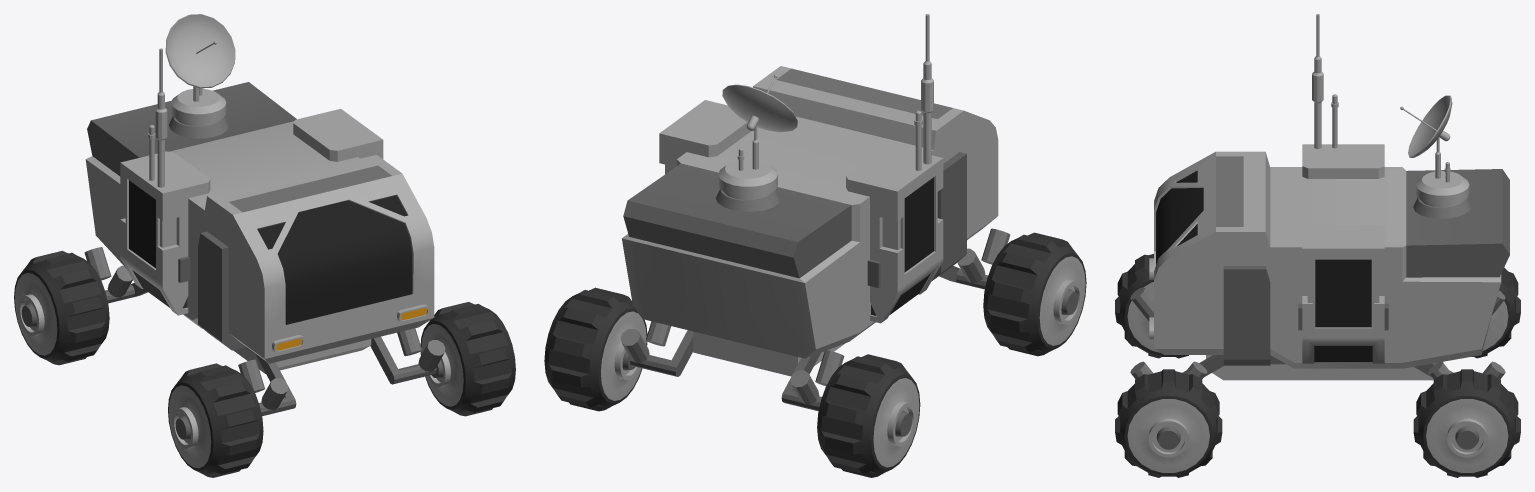
The model's file is debris_rover.repacked.glb.
The picture shows the model from 3 angles, left to right: view 1: azimuth 30°, elevation 25°; view 2: azimuth 150°, elevation 25°; view 3: azimuth 270°, elevation 25°; orthographic projection. The views are drawn at different scales.
Parts seen in each view (by area): view 1: Rover_1, Wheel_4.001, Wheel_4.002, Wheel_5; view 2: Rover_1, Wheel_4.001, Wheel_4.002, Wheel_1.002; view 3: Rover_1, Wheel_5, Wheel_1.002, Wheel_4.001, Wheel_4.002.
Boxes of the visible parts, x1,y1,x2,y2 form: Rover_1: [84, 14, 445, 416]; Wheel_4.001: [168, 363, 263, 477]; Wheel_4.002: [14, 250, 109, 365]; Wheel_5: [420, 302, 515, 416]; Rover_1: [620, 14, 1010, 411]; Wheel_4.001: [983, 232, 1086, 356]; Wheel_4.002: [817, 354, 920, 477]; Wheel_1.002: [544, 287, 647, 411]; Rover_1: [1130, 14, 1509, 380]; Wheel_5: [1115, 369, 1222, 477]; Wheel_1.002: [1413, 369, 1520, 477]; Wheel_4.001: [1115, 254, 1188, 358]; Wheel_4.002: [1471, 267, 1520, 358].
Size of the model in its own units: 4.58 by 4.88 by 5.16.
1 material, 1 textured.
